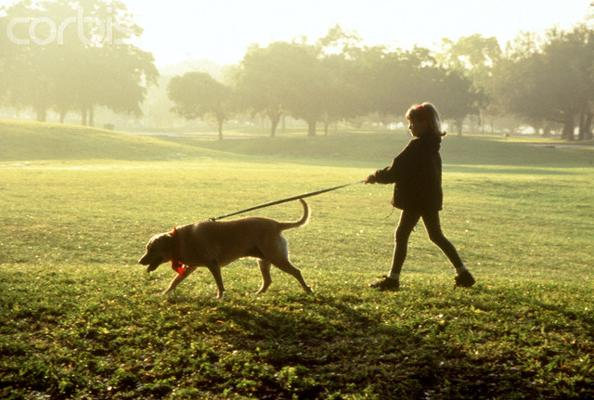person: (367, 103, 476, 289)
